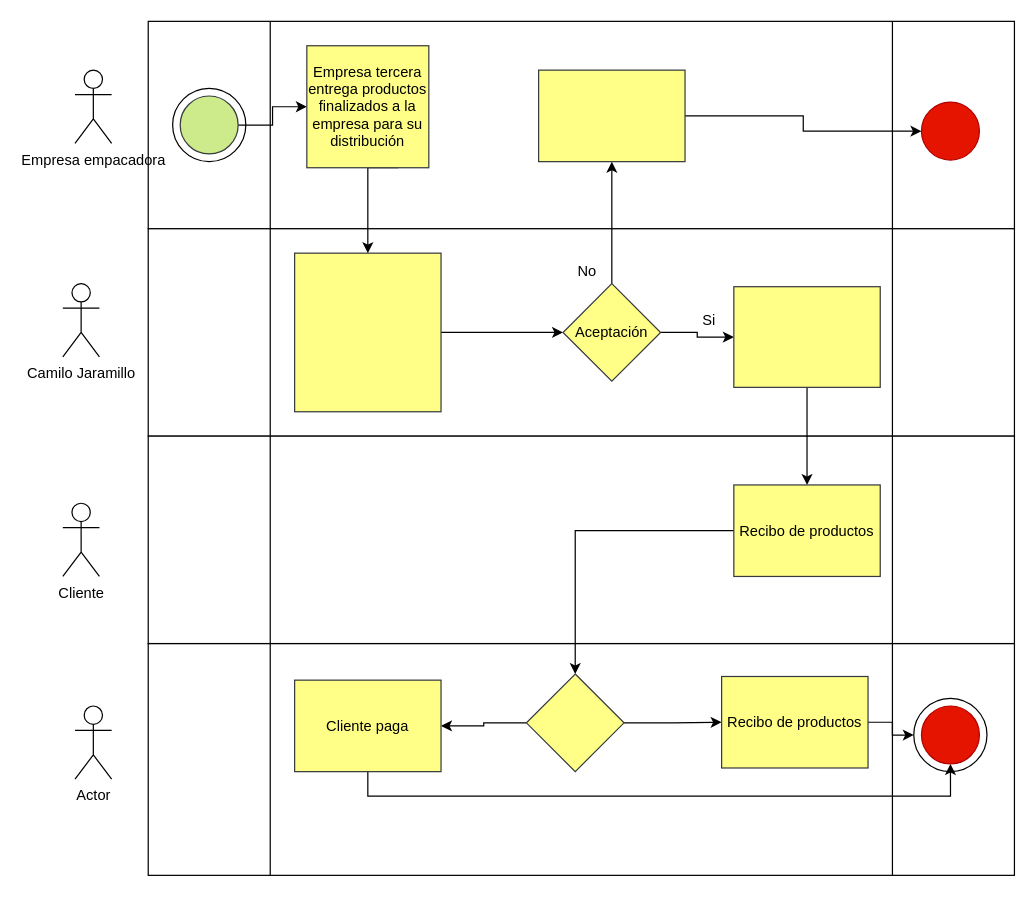
Some shapes in this 1036 by 897 pixel diagram are drawn without their labels. The shapes that lost their labels are listed below. From the top down, each one's box as (x1, y1, x2, y2) in pixels, then its label:
(537, 69, 685, 162): Disposición de productos
(293, 252, 441, 412): Camilo recibe productos y valida los mismos
(733, 285, 880, 387): Asignación de producto al repartidor
(525, 673, 624, 772): Pagó?
